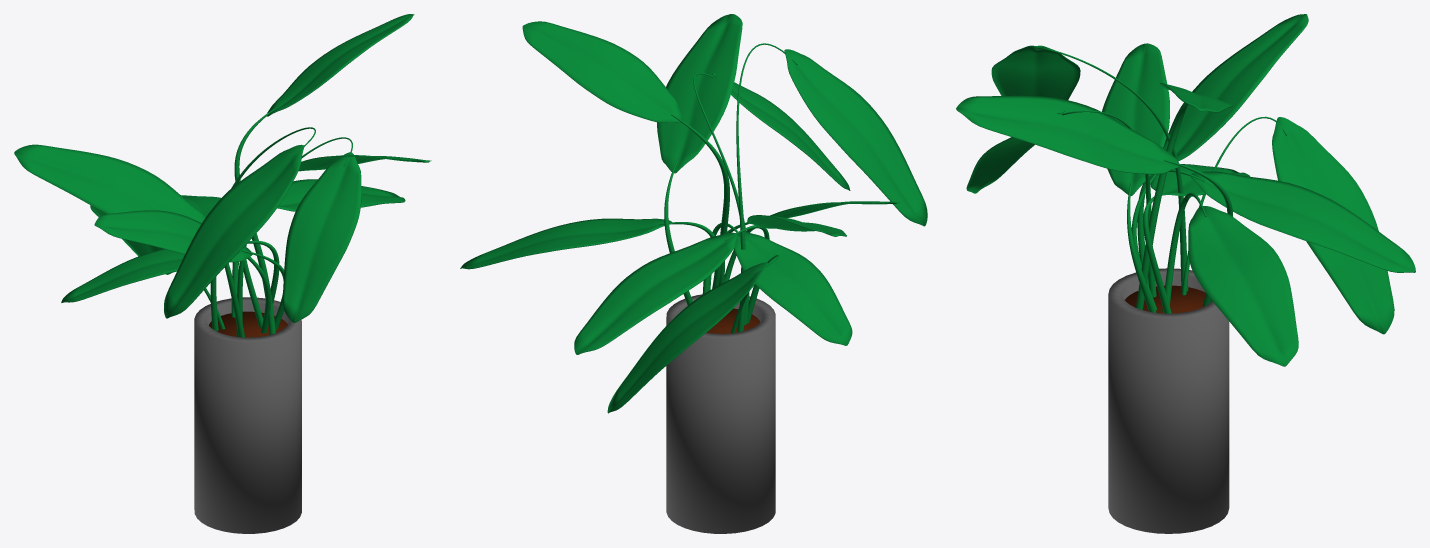
File: flowerpot.fbx
The picture shows the model from 3 angles, left to right: view 1: azimuth 30°, elevation 25°; view 2: azimuth 150°, elevation 25°; view 3: azimuth 270°, elevation 25°; orthographic projection. The views are drawn at different scales.
Visible parts, largest first — view 1: Plane.005, Cylinder, NurbsPath.008, Cylinder.001; view 2: Plane.005, Cylinder, NurbsPath.008, Cylinder.001; view 3: Plane.005, Cylinder, NurbsPath.008, Cylinder.001.
Boxes of the visible parts, left/top/right/bottom form: Plane.005: left=14, top=14, right=431, bottom=323; Cylinder: left=194, top=297, right=301, bottom=533; NurbsPath.008: left=204, top=107, right=352, bottom=337; Cylinder.001: left=208, top=311, right=287, bottom=337; Plane.005: left=460, top=14, right=927, bottom=413; Cylinder: left=666, top=294, right=775, bottom=533; NurbsPath.008: left=658, top=43, right=797, bottom=333; Cylinder.001: left=706, top=308, right=760, bottom=333; Plane.005: left=956, top=14, right=1415, bottom=366; Cylinder: left=1108, top=268, right=1229, bottom=533; NurbsPath.008: left=1036, top=47, right=1286, bottom=313; Cylinder.001: left=1125, top=285, right=1211, bottom=313.
Bounding box in the file's own units: 106 × 119 × 99.02.
